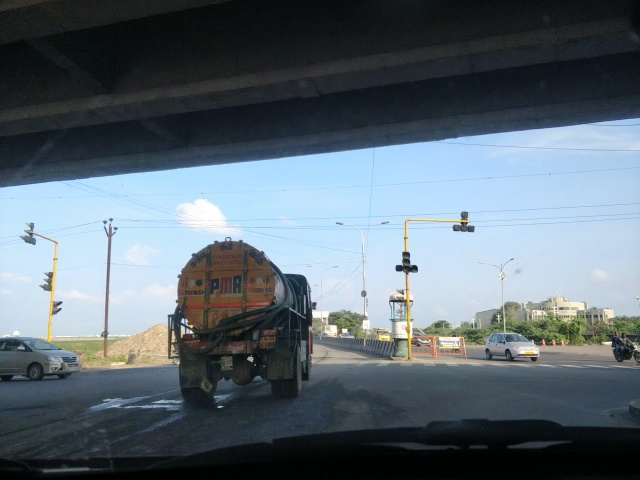car: (3, 311, 88, 390), (479, 322, 549, 369), (406, 326, 433, 349), (337, 327, 357, 341)
motorbike: (598, 327, 638, 370)
truck: (164, 238, 323, 420), (366, 324, 392, 350)
